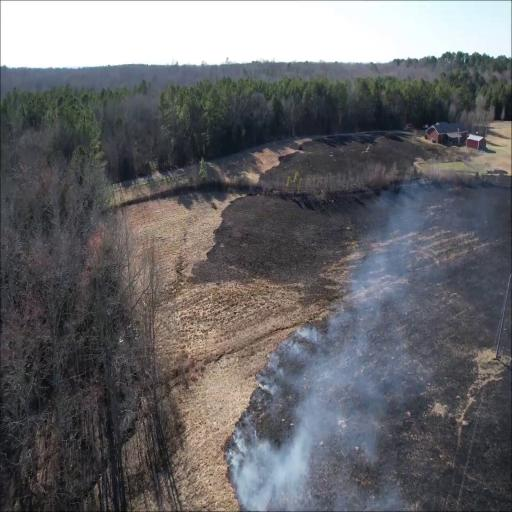smoke: (229, 419, 314, 512)
